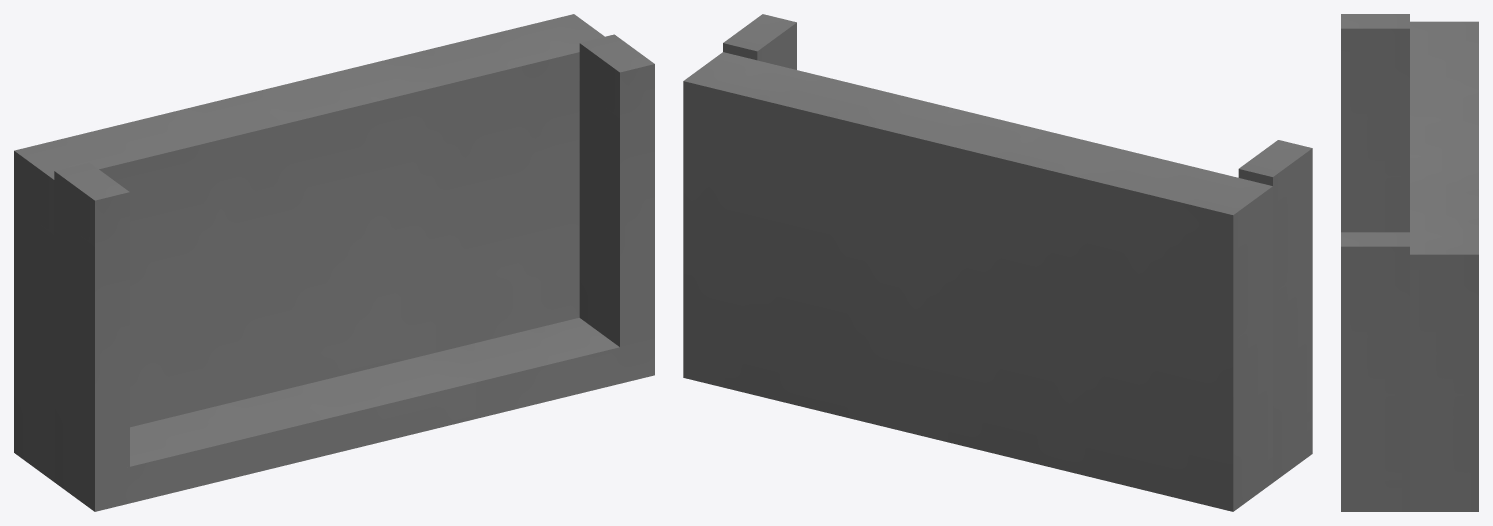
File: dc_metro_arch_b3.obj
3 views of the same model, side by side, from view 1: azimuth 30°, elevation 25°; view 2: azimuth 150°, elevation 25°; view 3: azimuth 270°, elevation 25° (orthographic). The views are drawn at different scales.
Visible parts, largest first — view 1: part3; view 2: part3; view 3: part3.
Part boxes in pixels (<box>): part3: <box>14,14,654,511</box>; part3: <box>683,14,1312,511</box>; part3: <box>1341,14,1478,511</box>.
Bounding box in the file's own units: 2 × 1.06 × 0.5.
1 material, 1 textured.
